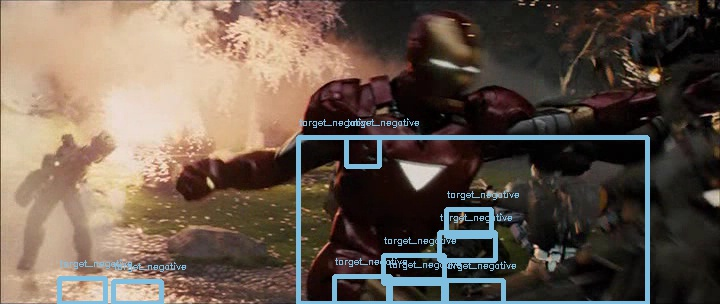person: (406, 18, 482, 98), (405, 18, 481, 98), (407, 18, 483, 98), (406, 17, 482, 97), (406, 19, 482, 99)
target_negative: (181, 29, 689, 200), (18, 219, 359, 272), (474, 121, 631, 236), (464, 216, 517, 279), (673, 40, 680, 249), (603, 184, 691, 187)
